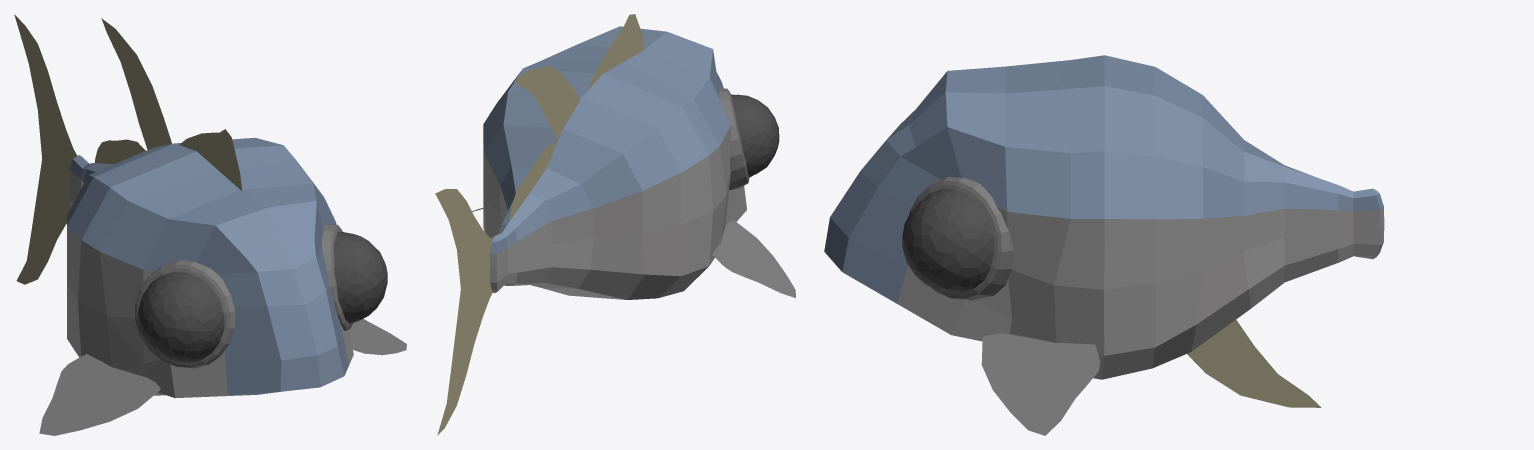
File: tuna.glb
3 views of the same model, side by side, from view 1: azimuth 30°, elevation 25°; view 2: azimuth 150°, elevation 25°; view 3: azimuth 270°, elevation 25° (orthographic). The views are drawn at different scales.
Visible parts, largest first — view 1: cutefish__Tuna.glb; view 2: cutefish__Tuna.glb; view 3: cutefish__Tuna.glb.
Part boxes in pixels (x1,y1,x2,y2): cutefish__Tuna.glb: [14, 14, 406, 435]; cutefish__Tuna.glb: [435, 14, 795, 435]; cutefish__Tuna.glb: [824, 55, 1384, 435].
Bounding box in the file's own units: 3.9 × 3.52 × 5.63.
